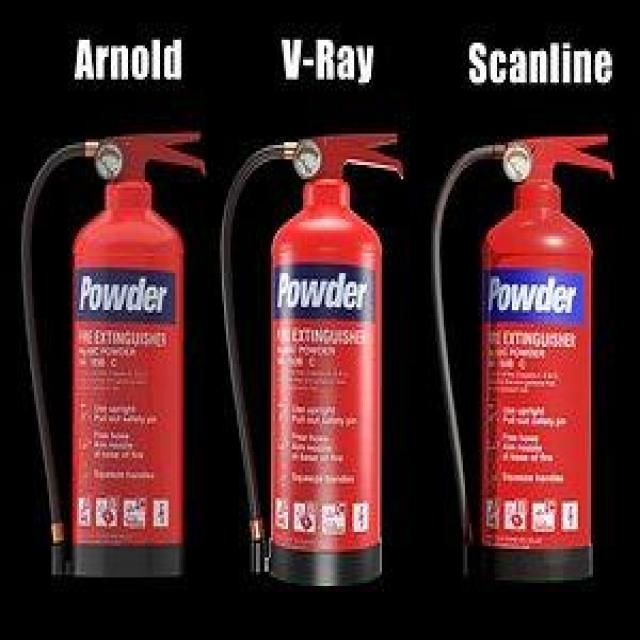fire_extinguisher: (214, 124, 404, 590), (426, 125, 616, 589), (14, 124, 206, 579)
